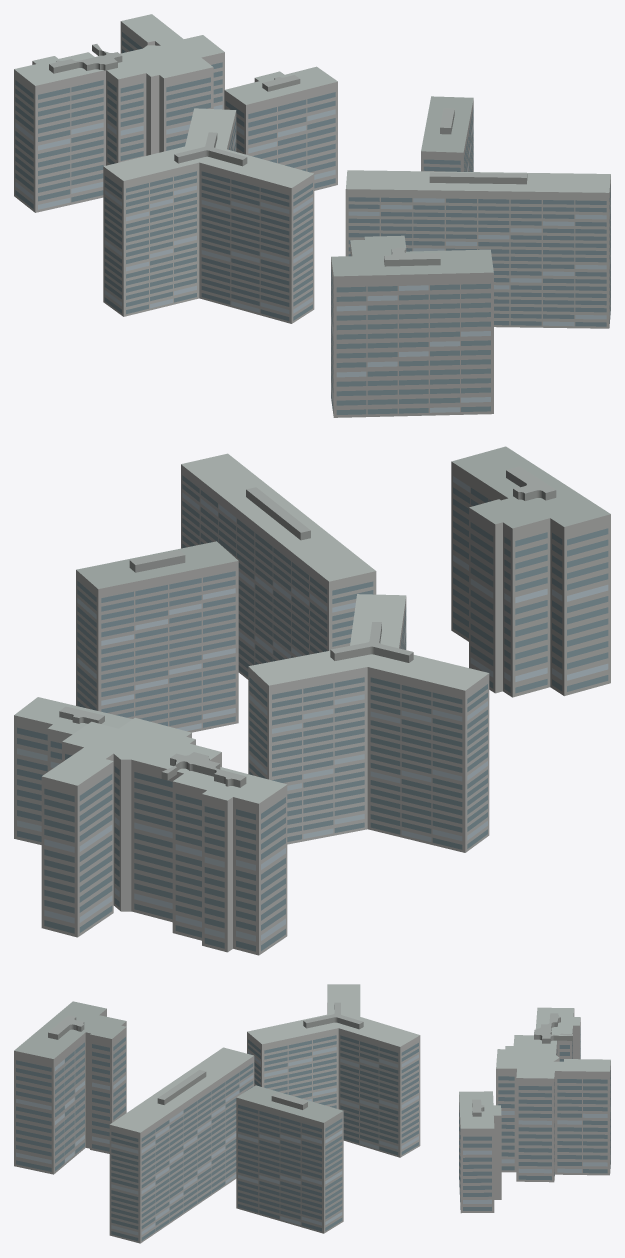
The model's file is apt-a12208105.glb.
The picture shows the model from 3 angles, top to bottom: view 1: azimuth 30°, elevation 25°; view 2: azimuth 150°, elevation 25°; view 3: azimuth 270°, elevation 25°; orthographic projection. The views are drawn at different scales.
Parts seen in each view (by area): view 1: apt-a12208105; view 2: apt-a12208105; view 3: apt-a12208105.
Boxes of the visible parts, x1,y1,x2,y2 form: apt-a12208105: (14,14,610,417); apt-a12208105: (14,446,610,955); apt-a12208105: (14,984,610,1243).
Bounding box in the file's own units: 126 × 47.81 × 214.
